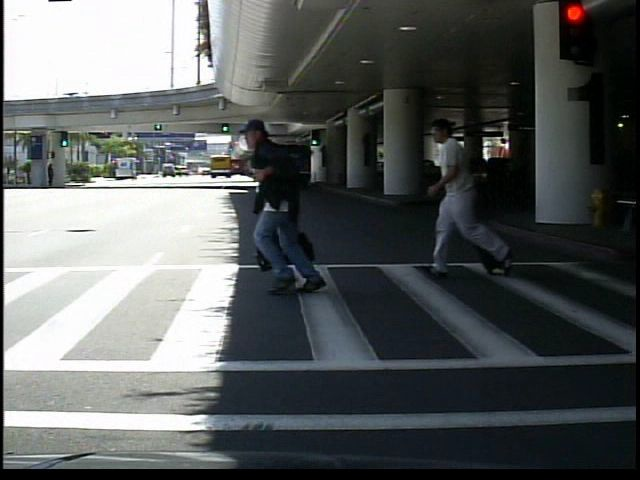person: (242, 116, 327, 297), (433, 112, 497, 278)
